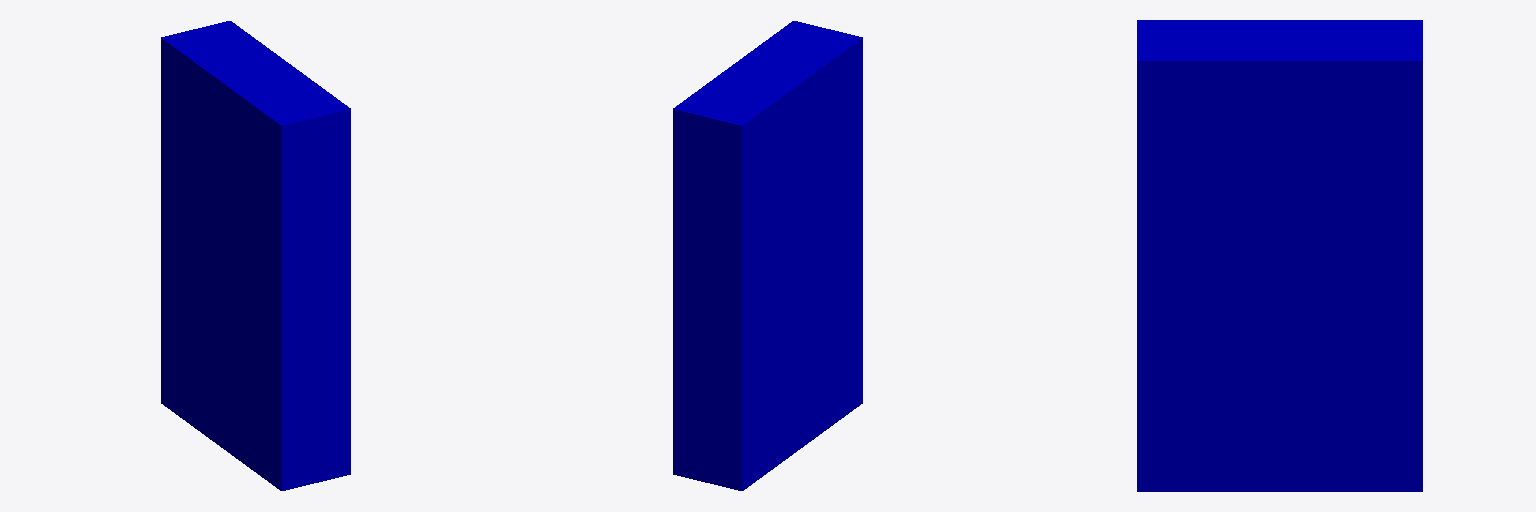
URDF robot description (my_box):
<?xml version="1.0"?>
<robot name="my_box">
  <link name="base_link">
    <visual>
      <geometry>
        <box size="1 3 5" />
      </geometry>

      <material name="blue">
        <color rgba="0 0 0.8 1"/>
      </material>
    </visual>

    <collision>
      <geometry>
        <box size="1 3 5" />
      </geometry>
    </collision>
  </link>
</robot>

--- Facts derived from the render (not from the file) ---
Views: 3 orthographic renders of the robot side by side, from view 1: azimuth 30°, elevation 25°; view 2: azimuth 150°, elevation 25°; view 3: azimuth 270°, elevation 25°.
Robot: my_box — 1 links, 0 joints (none); root link base_link; default pose: every joint at zero.
Visible links, largest first — view 1: base_link; view 2: base_link; view 3: base_link.
Boxes of the visible links, left/top/right/bottom form: base_link: left=161, top=21, right=350, bottom=490; base_link: left=673, top=21, right=862, bottom=490; base_link: left=1137, top=20, right=1422, bottom=491.
Bounding box of the posed robot: 1 × 3 × 5 m (x, y, z).
Geometry: primitives only (box / cylinder / sphere), no mesh files.